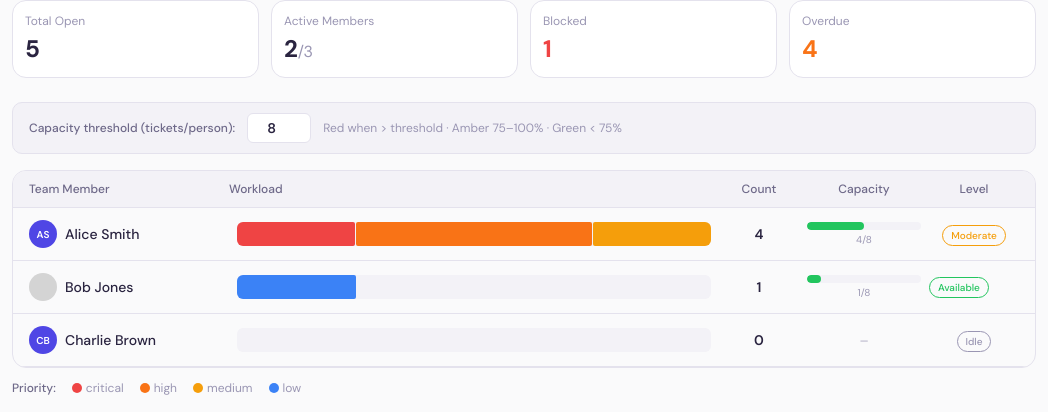
it: TeamWorkload capacity model › shows Overloaded badge after threshold is lowered below member count
Alice has 4 tickets — lower threshold to 3 so she becomes overloaded
Step 1. Replace the text in the number field with test id "capacity-threshold-input" with "3" → (279, 128), box 247,113 -> 311,143
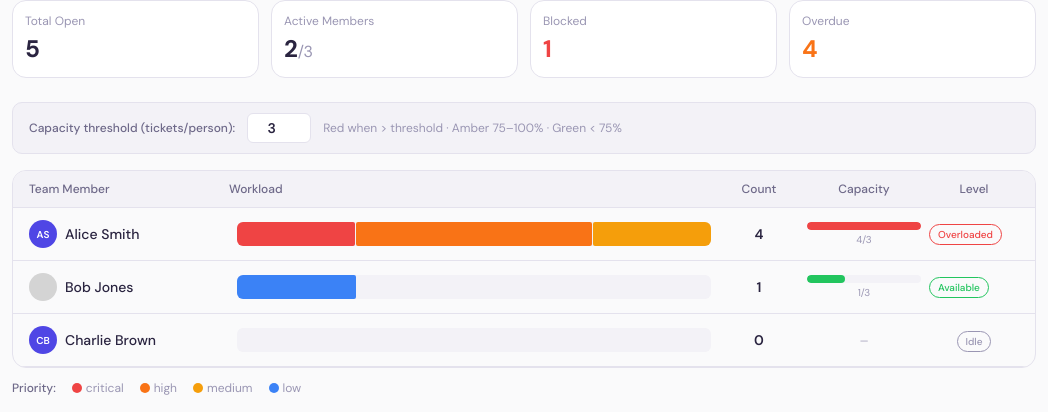
expect the text "Overloaded" is shown: met, box 929,224 -> 1002,244
